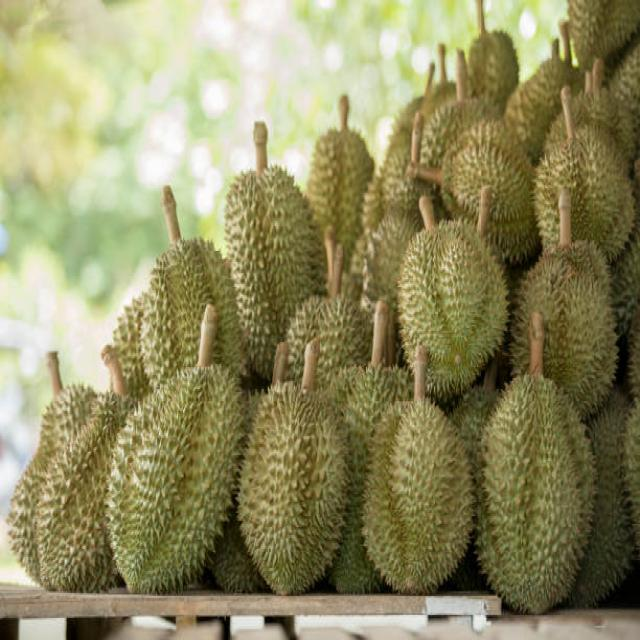mature: (108, 364, 244, 593), (476, 375, 594, 614), (240, 382, 348, 594), (362, 398, 472, 593), (225, 165, 325, 378), (399, 219, 508, 401), (38, 392, 135, 592), (140, 238, 242, 387)
